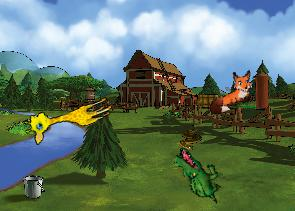crocodile: (163, 145, 232, 205)
fox: (200, 66, 261, 117)
giraffe: (20, 85, 115, 147)
